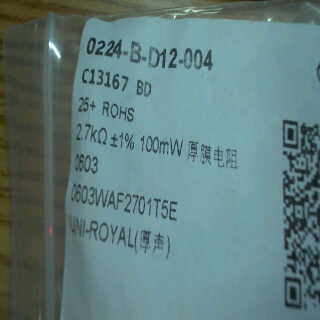2.7kR: (73, 119, 113, 153)
